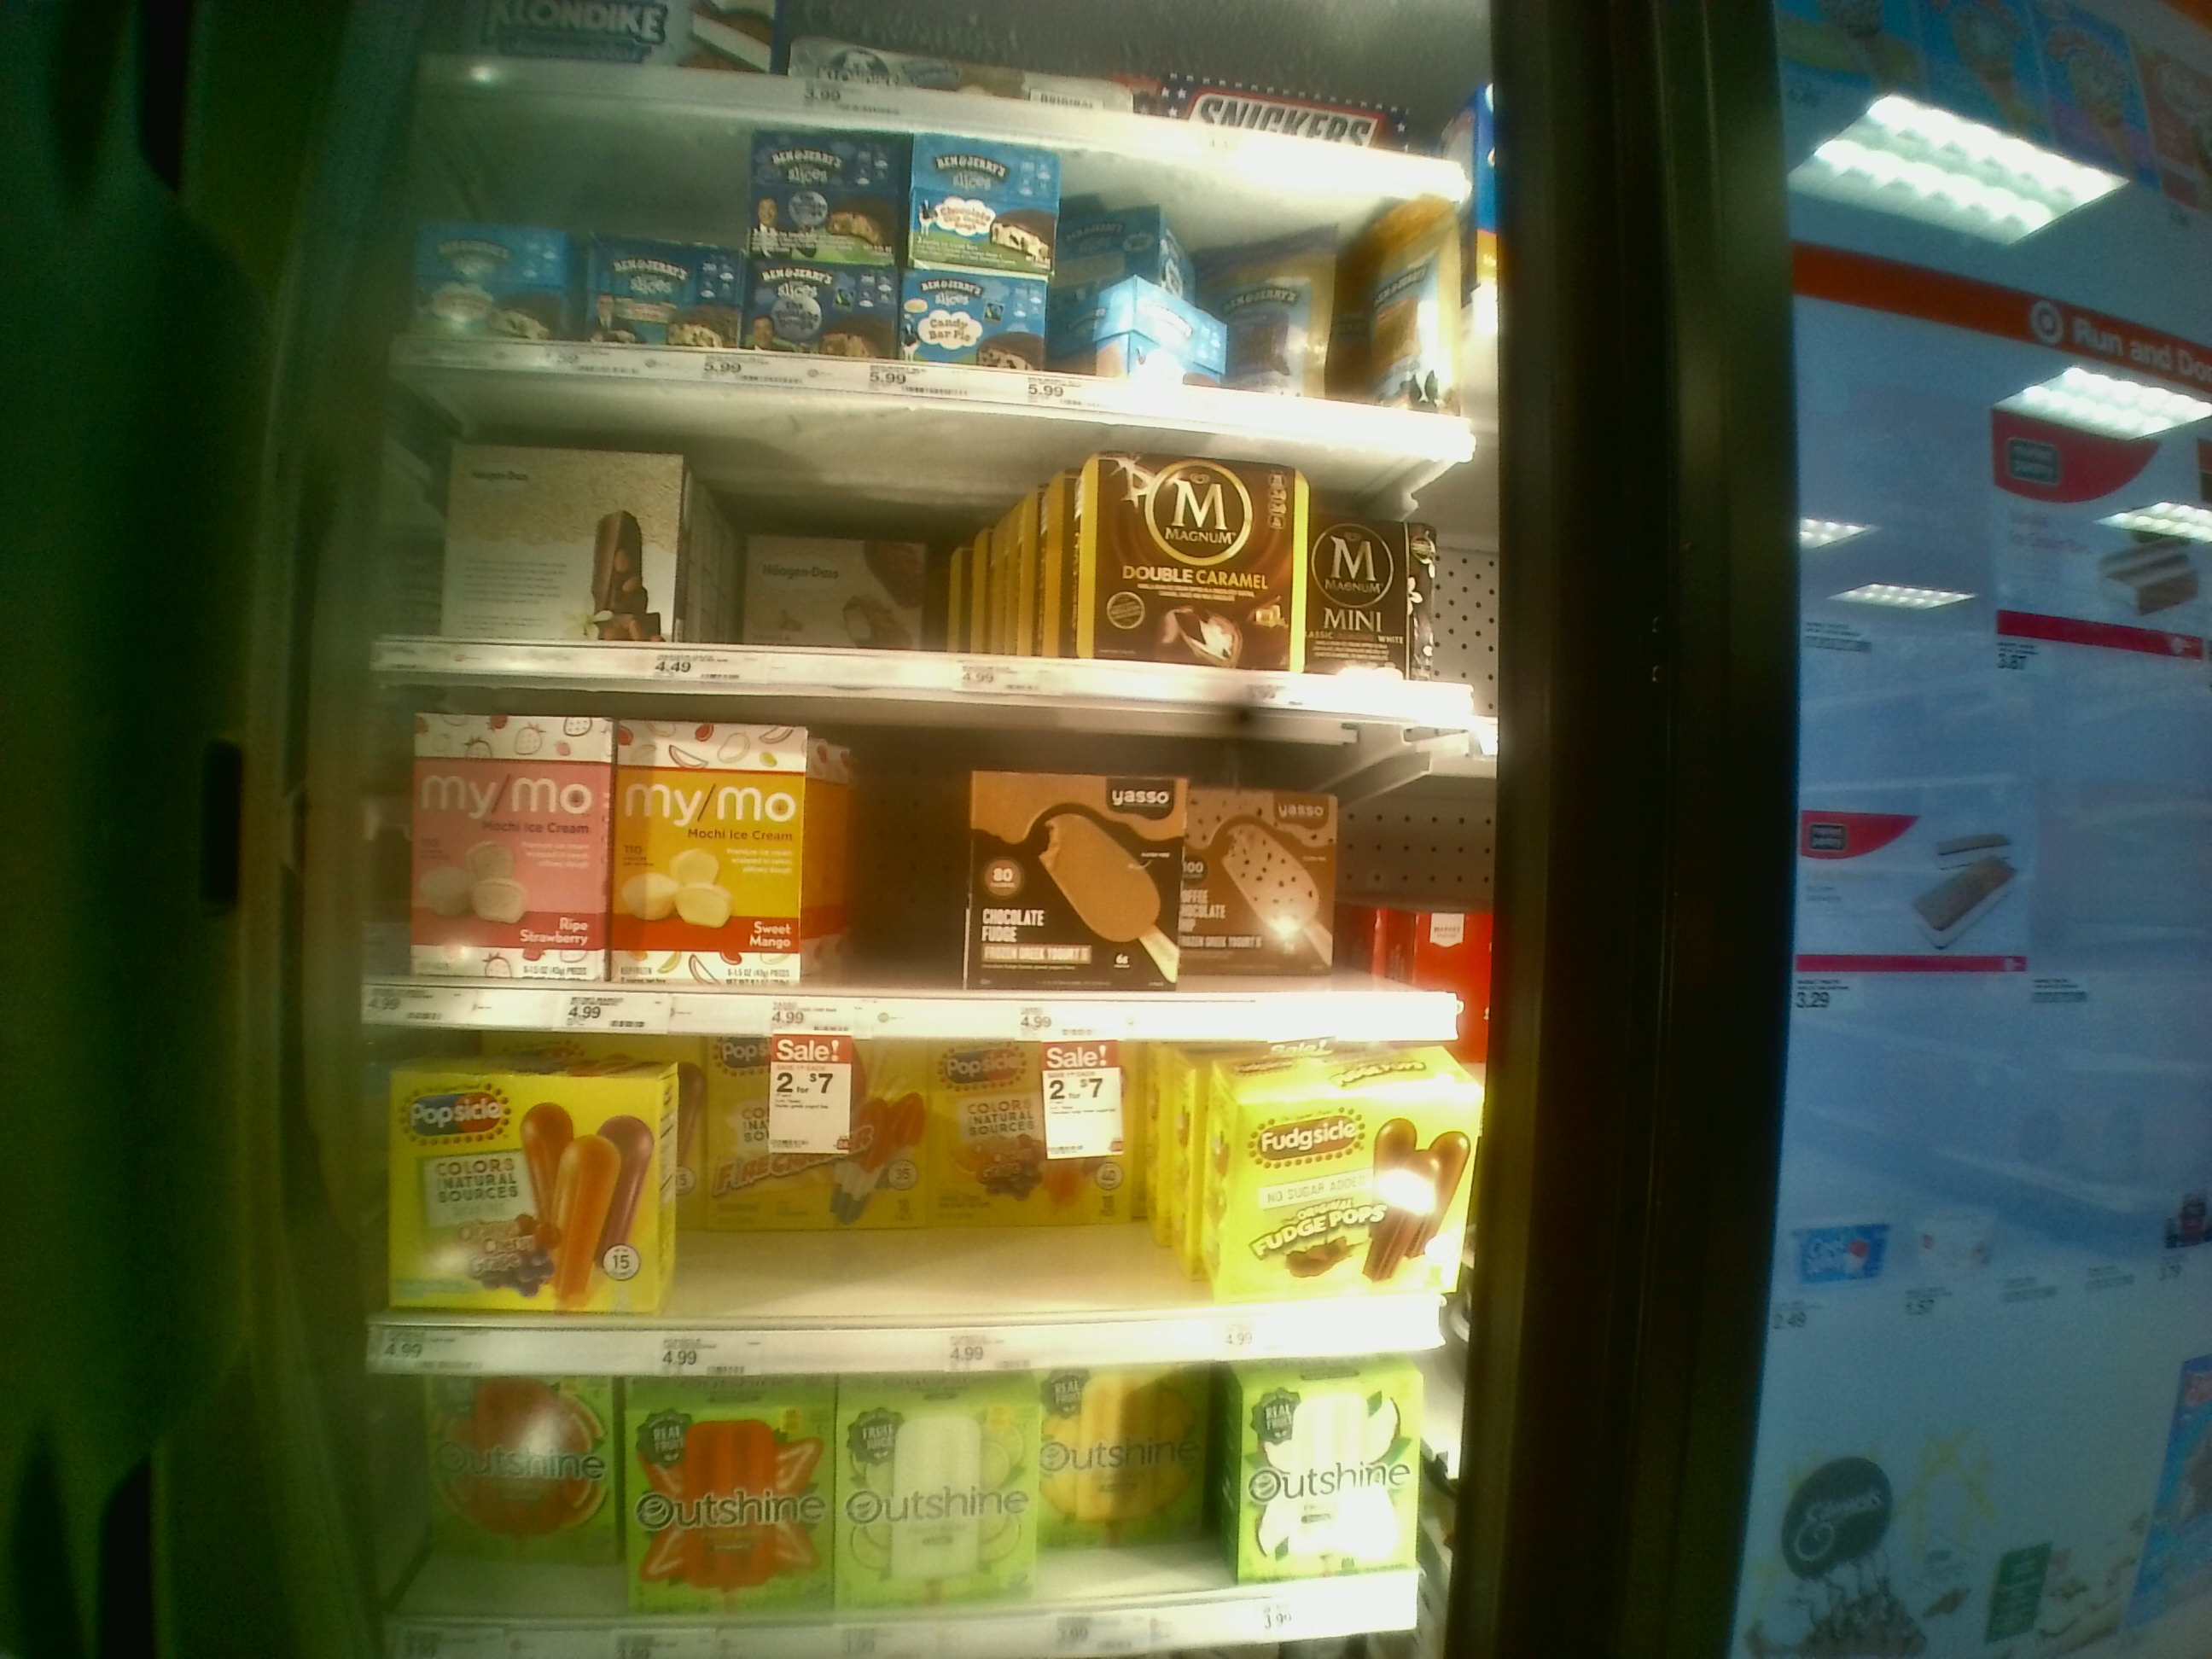ice-cream-shelf: (371, 687, 1491, 1047), (361, 1030, 1484, 1368), (376, 375, 1484, 708)
